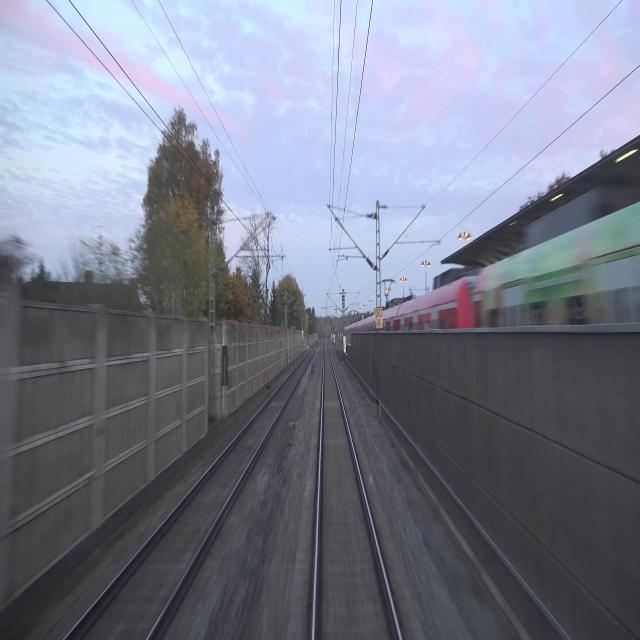rail-track: (68, 355, 309, 639), (316, 345, 397, 639)
